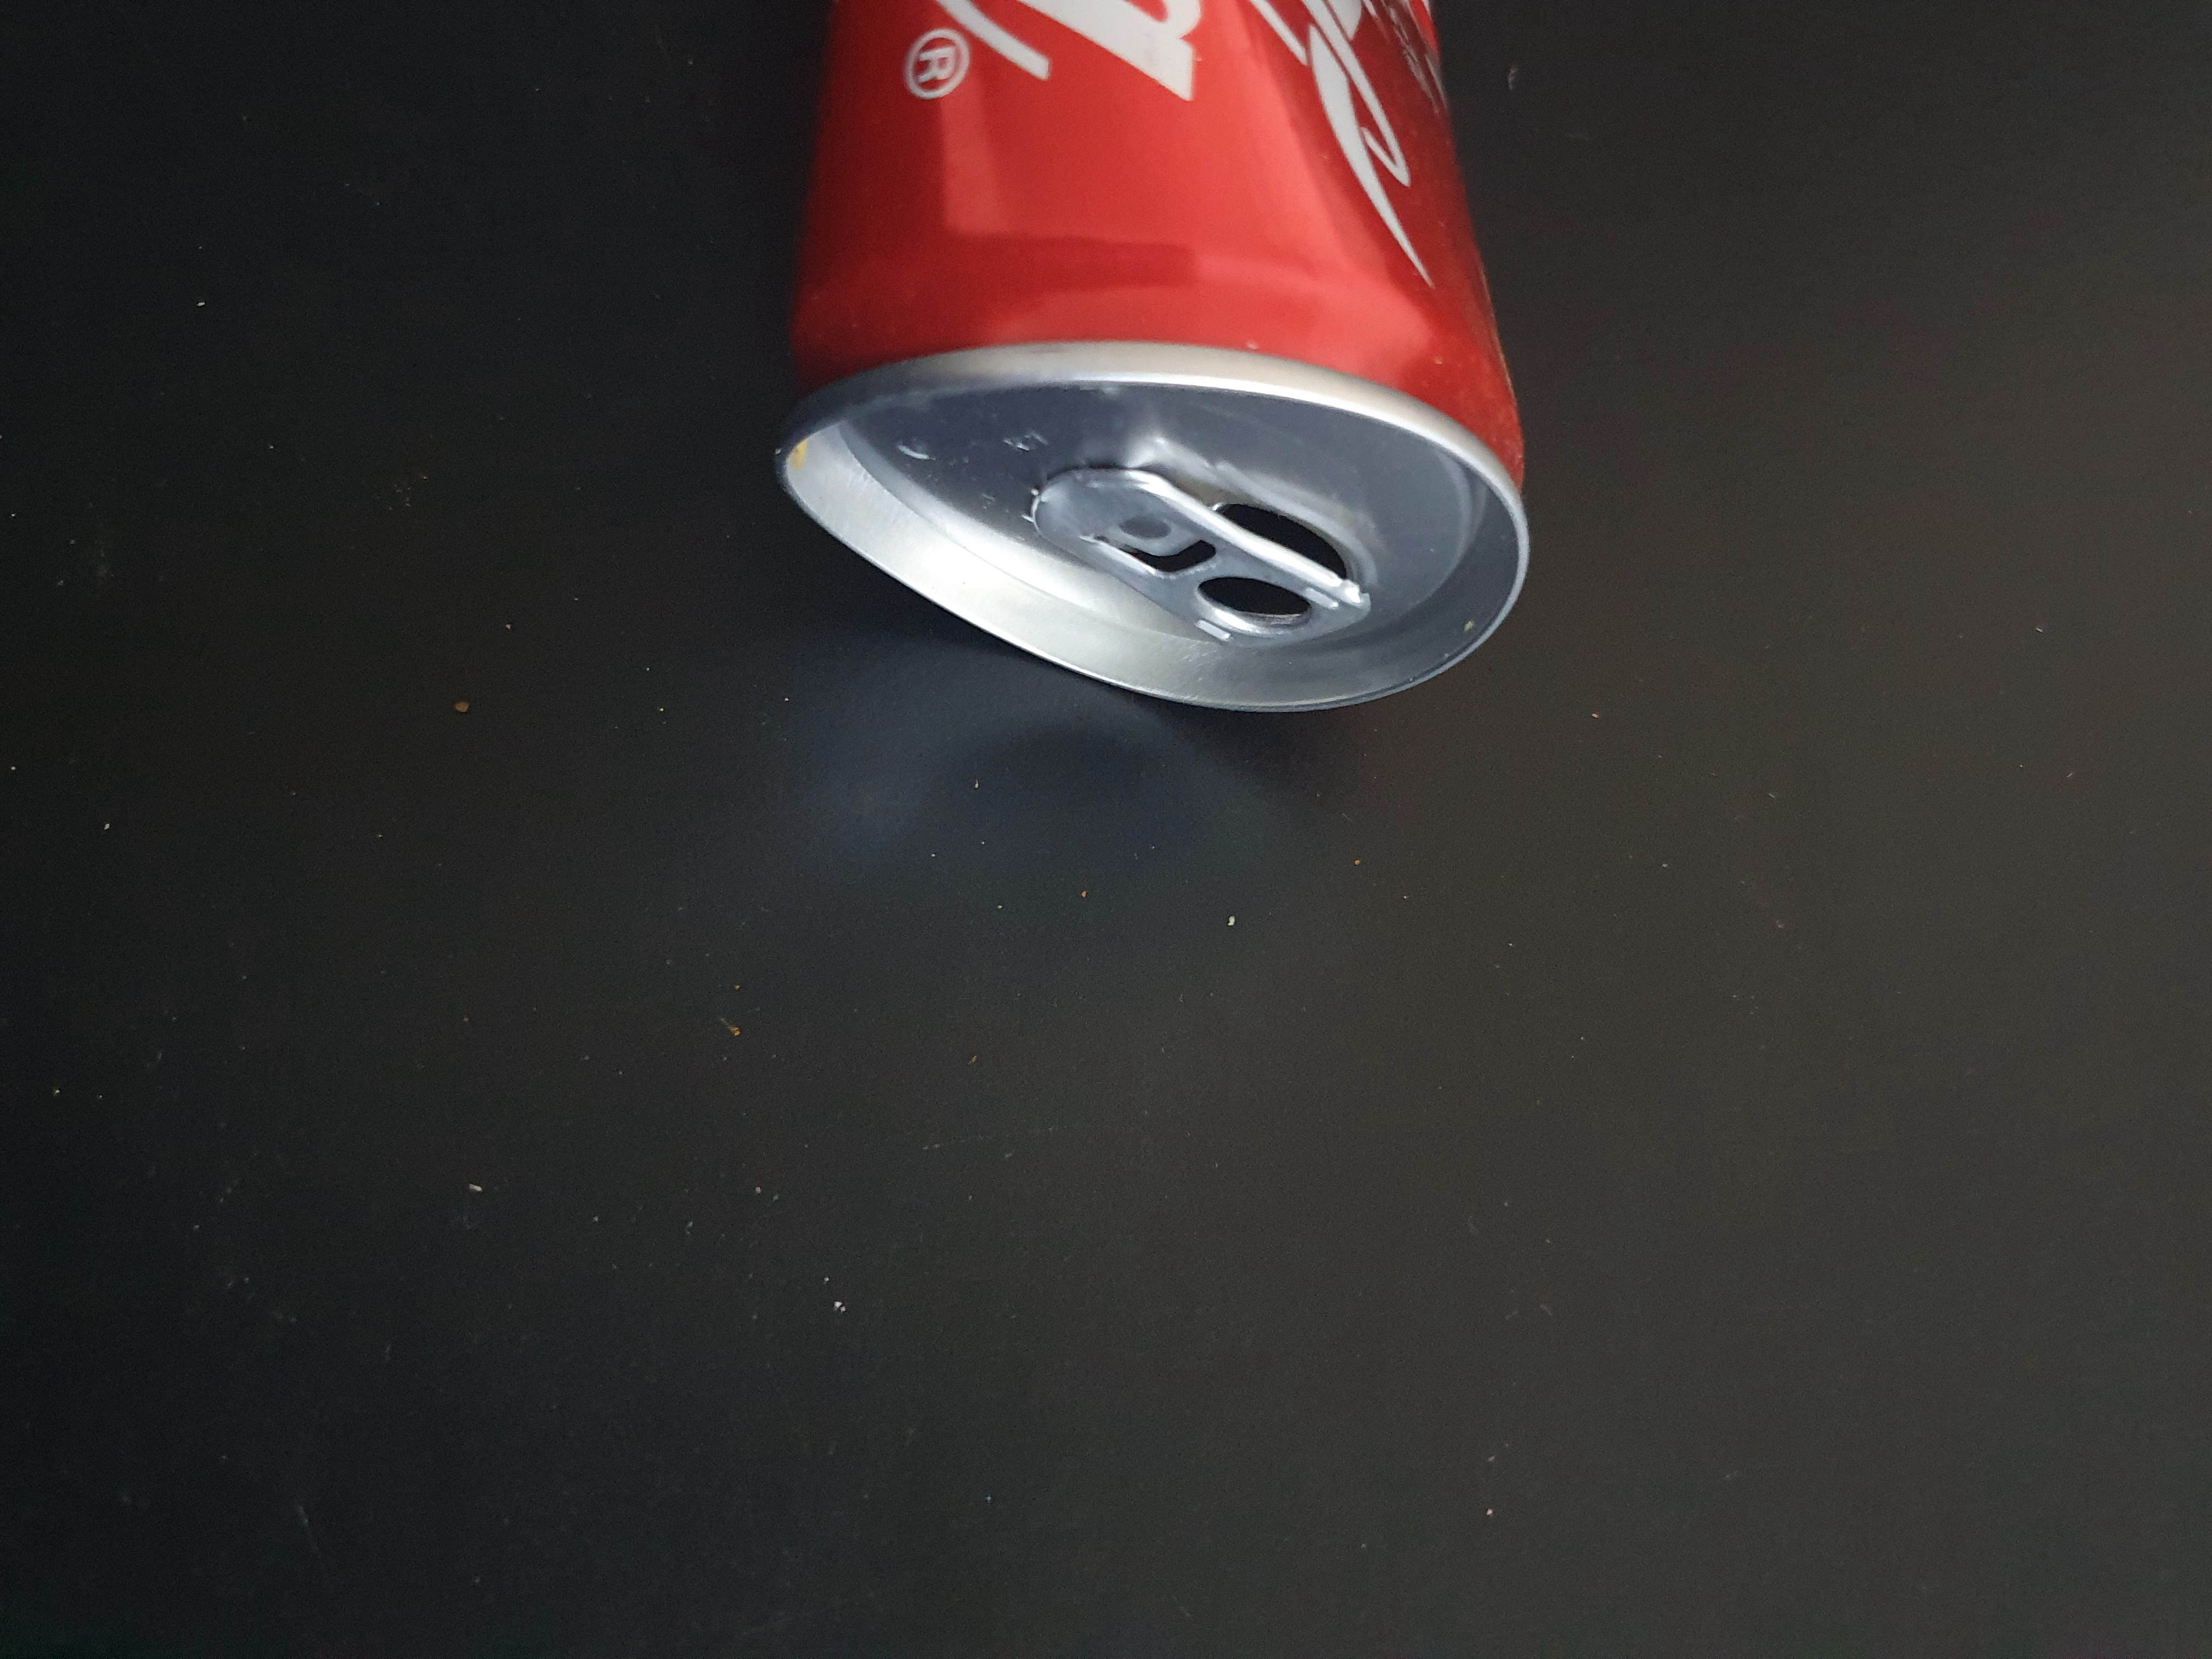metal: (718, 0, 1573, 760)
